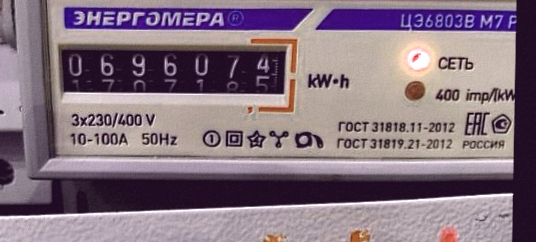0: (65, 51, 85, 77), (192, 50, 210, 77)
4: (254, 51, 271, 73)
5: (254, 74, 270, 94)
6: (160, 50, 179, 77), (97, 51, 116, 76)
7: (224, 52, 241, 78)
9: (129, 50, 146, 77)
screen: (47, 31, 301, 115)
